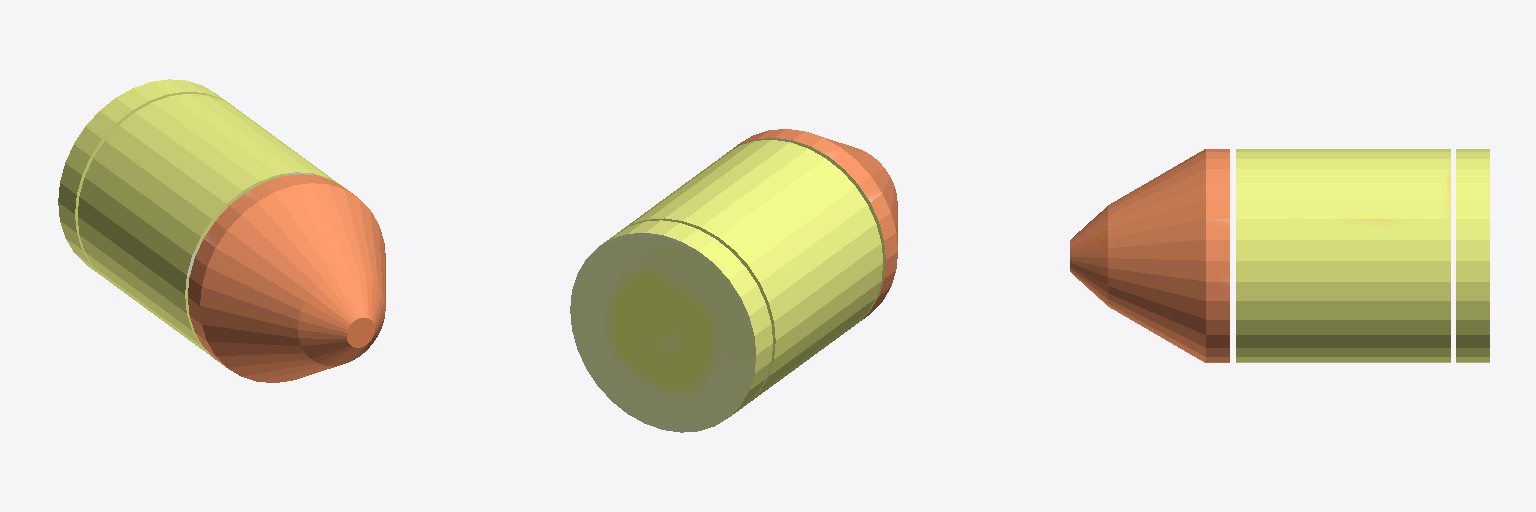
The picture shows the model from 3 angles: view 1: azimuth 30°, elevation 25°; view 2: azimuth 150°, elevation 25°; view 3: azimuth 270°, elevation 25°; orthographic projection.
Parts seen in each view (by area): view 1: 円柱; view 2: 円柱; view 3: 円柱.
Boxes of the visible parts, <box> form: 円柱: <box>58,79,385,382</box>; 円柱: <box>570,129,897,432</box>; 円柱: <box>1070,149,1489,362</box>.
Size of the model in its own units: 2 by 2 by 3.9.
1 materials, 1 textured.